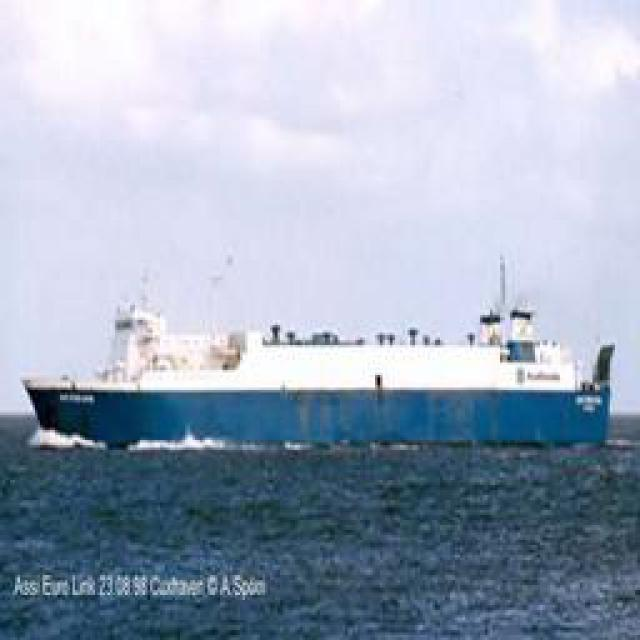Ship: (22, 265, 622, 458)
